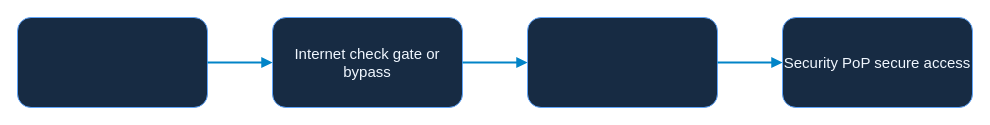
The diagram is 990 pixels wide and 125 high, and some of its shapes have lost their labels. Each missing label, with the centre of its shape:
Endpoint FortiClient profile: (x=112, y=62)
SASE tunnel autoconnect: (x=622, y=62)
